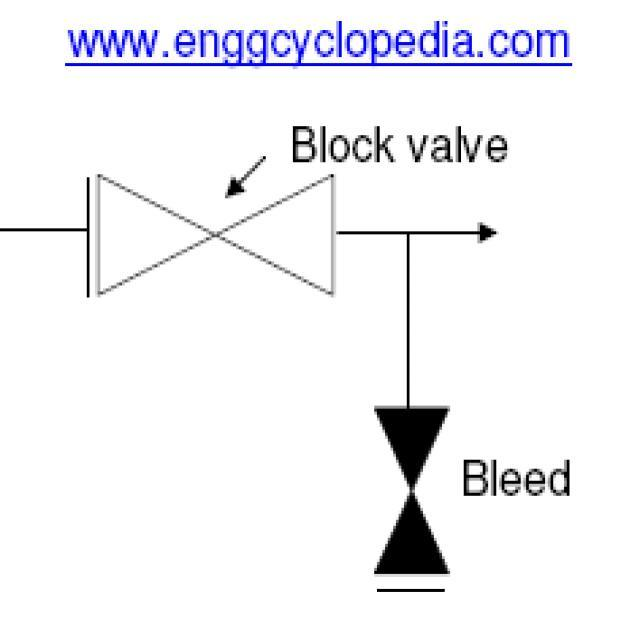Bleeder Valve: (338, 386, 456, 582)
Gate Valve: (95, 165, 336, 298)
